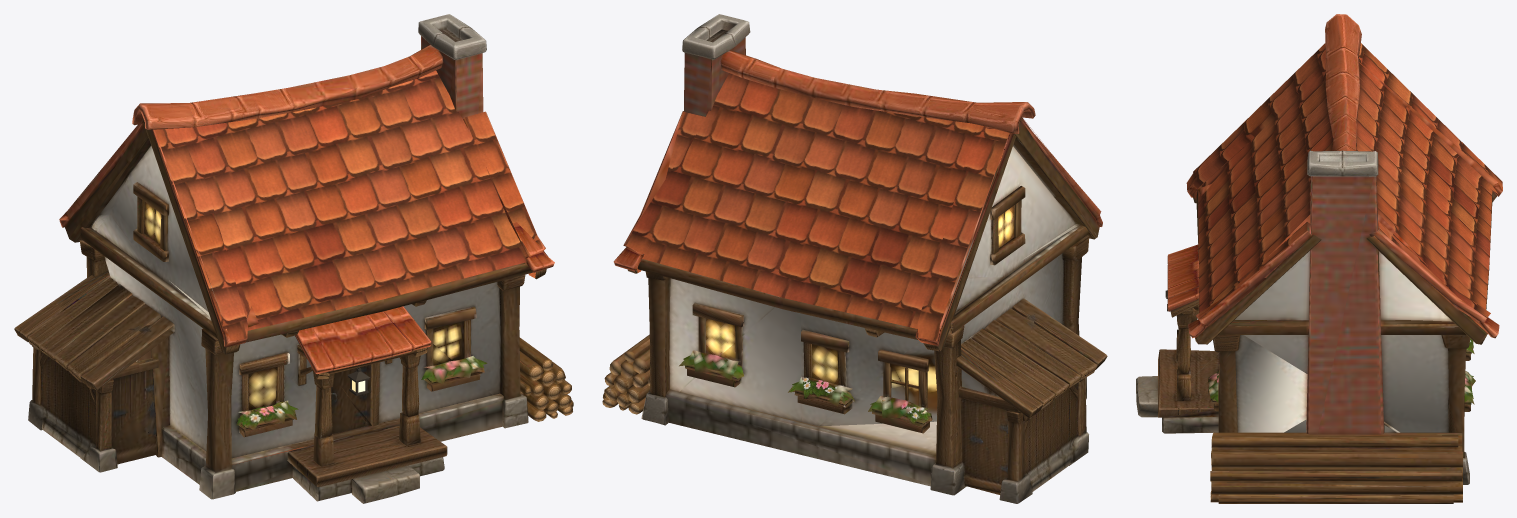
Rendered from farmhouse.glb.
3 views of the same model, side by side, from view 1: azimuth 30°, elevation 25°; view 2: azimuth 150°, elevation 25°; view 3: azimuth 270°, elevation 25° (orthographic). The views are drawn at different scales.
Visible parts, largest first — view 1: farmhouse; view 2: farmhouse; view 3: farmhouse.
Boxes of the visible parts, x1,y1,x2,y2 form: farmhouse: [14, 14, 573, 503]; farmhouse: [602, 14, 1107, 503]; farmhouse: [1136, 14, 1502, 503].
Size of the model in its own units: 3.54 by 2.7 by 2.76.
Materials: 5 (3 with a texture image).
